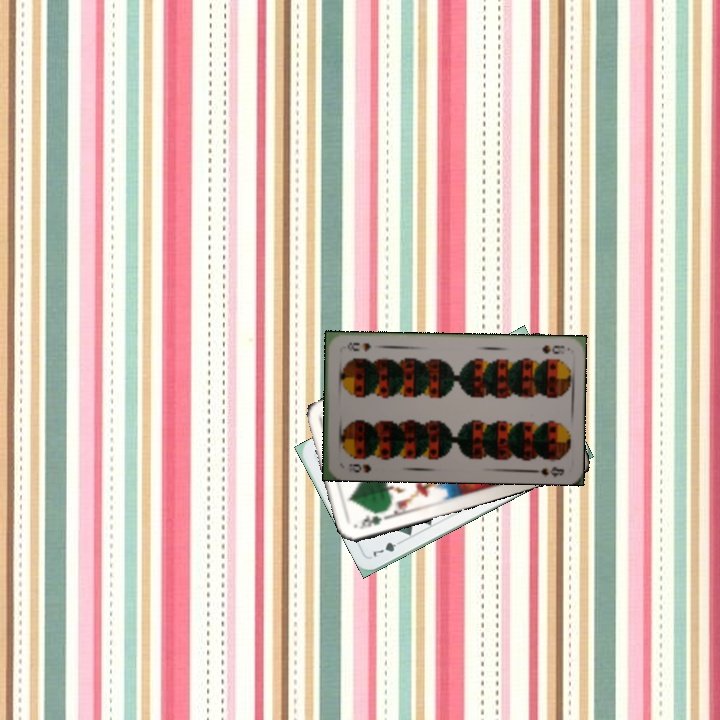G7: (369, 537, 407, 559)
GK: (355, 510, 392, 531)
S8: (538, 341, 567, 356), (345, 460, 373, 475)
